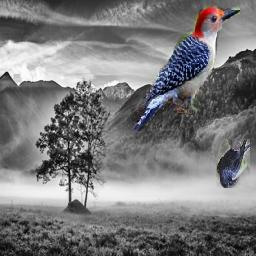Crow: (216, 140, 250, 189)
Woodpecker: (132, 5, 240, 131)
